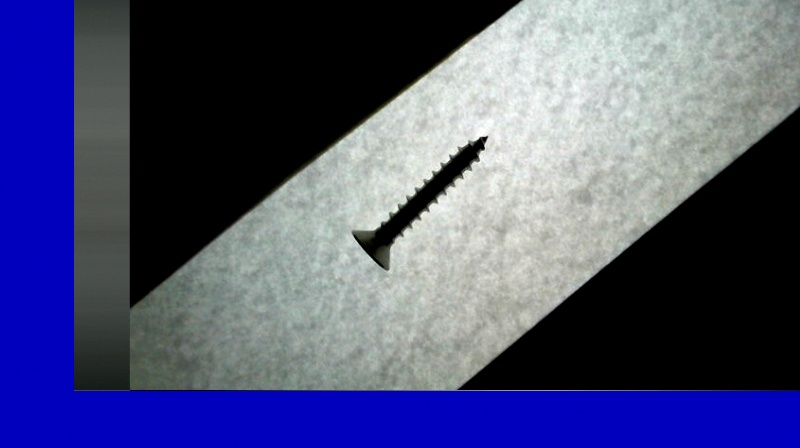S001: (347, 132, 490, 271)
